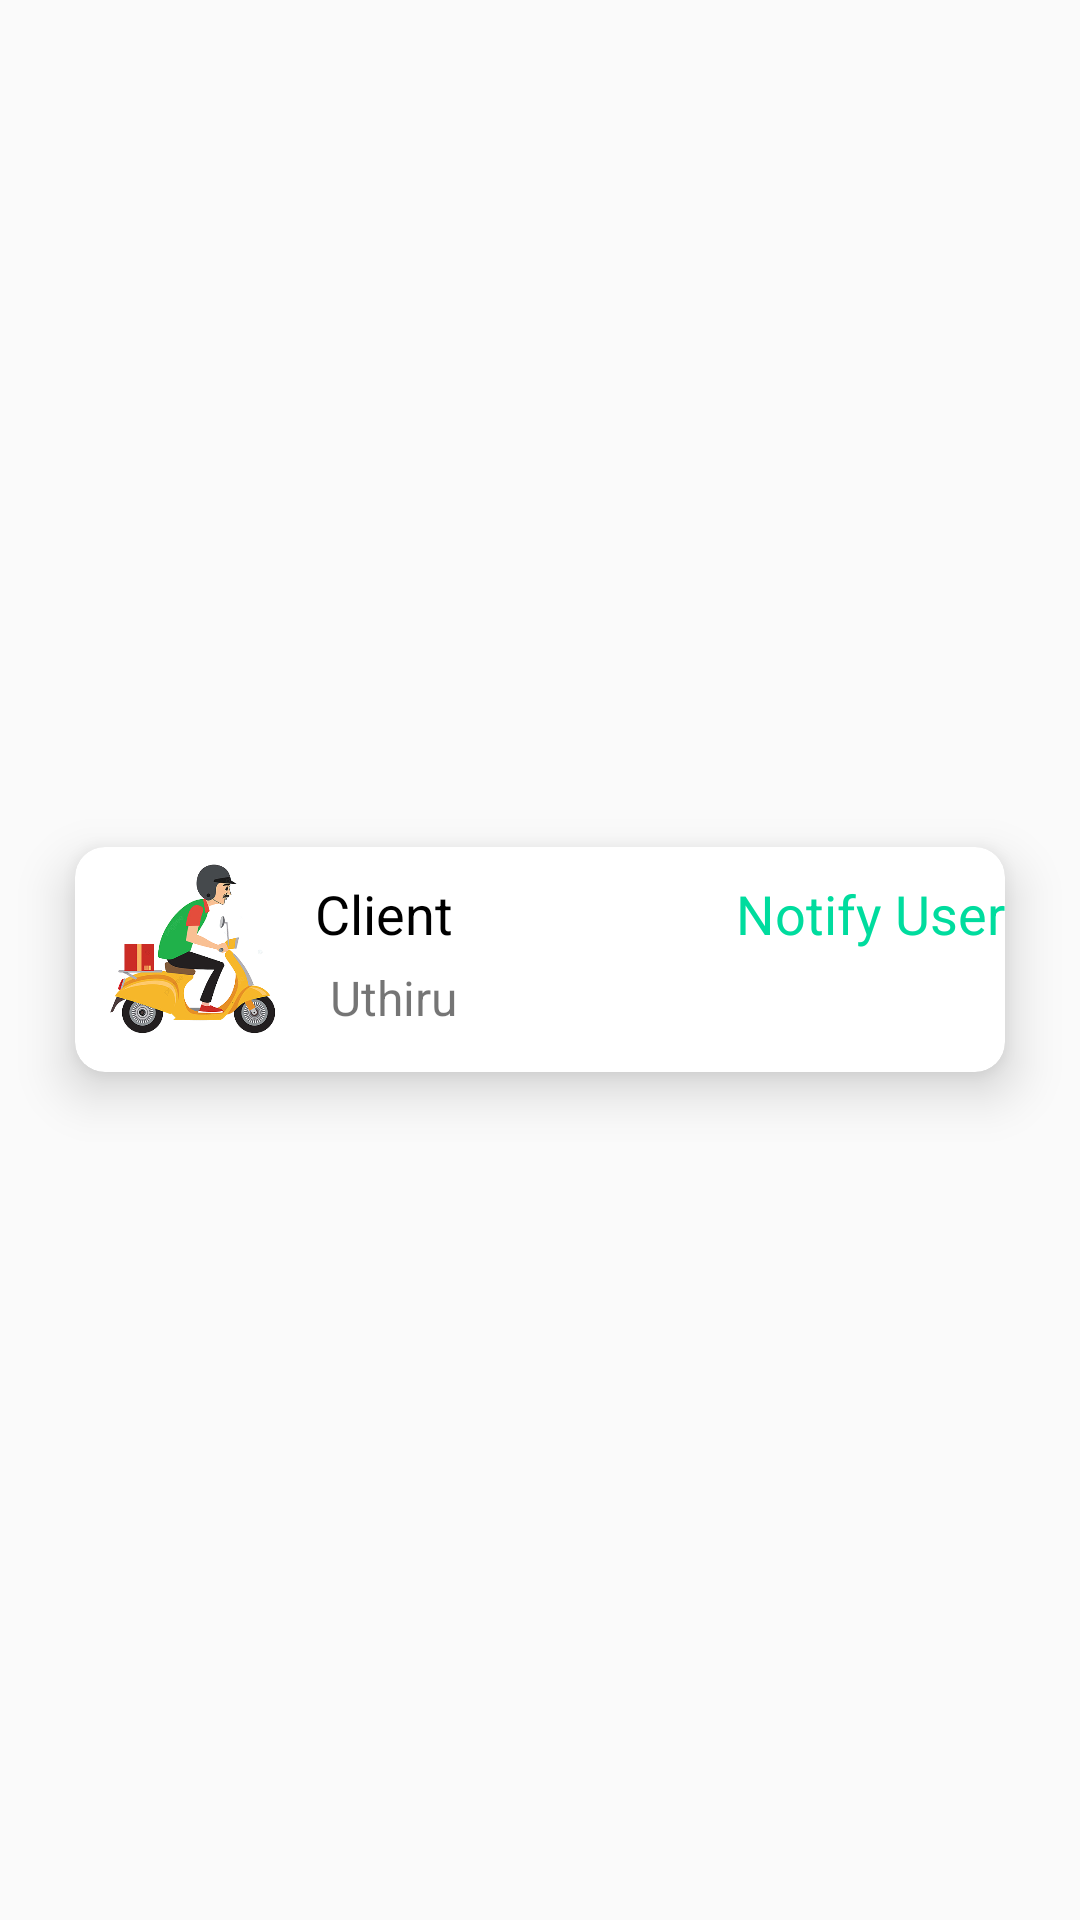

Screen size 1080px x 1920px. Icon name, then its center in pixels as (x,y):
rider: (187,959)
